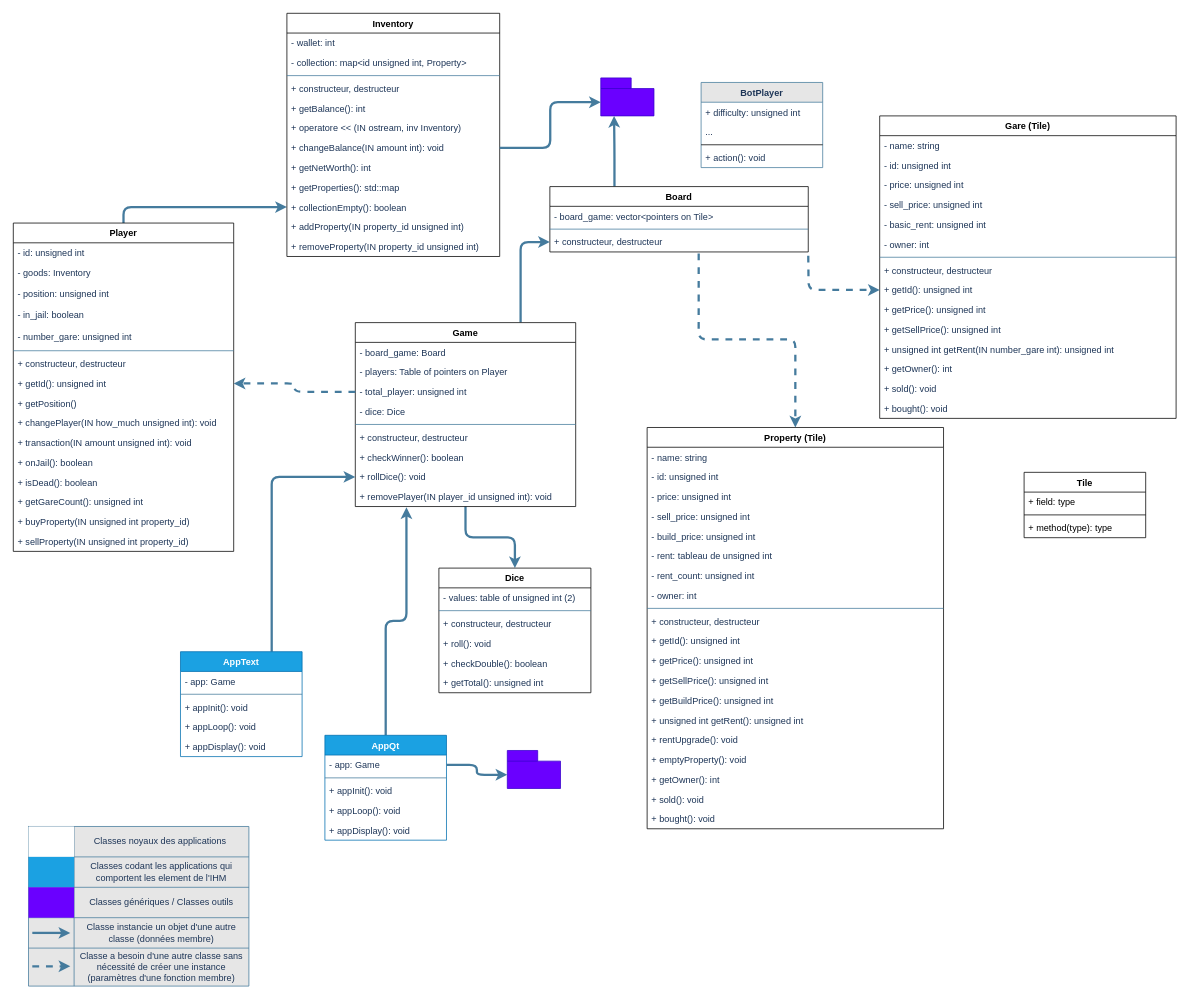
The diagram is 1189 pixels wide and 999 high, and some of its shapes have lost their labels. The centre of each missing label's shape, as x and y in pixels:
Qt5: pixel 533 769
std::map: pixel 627 96
